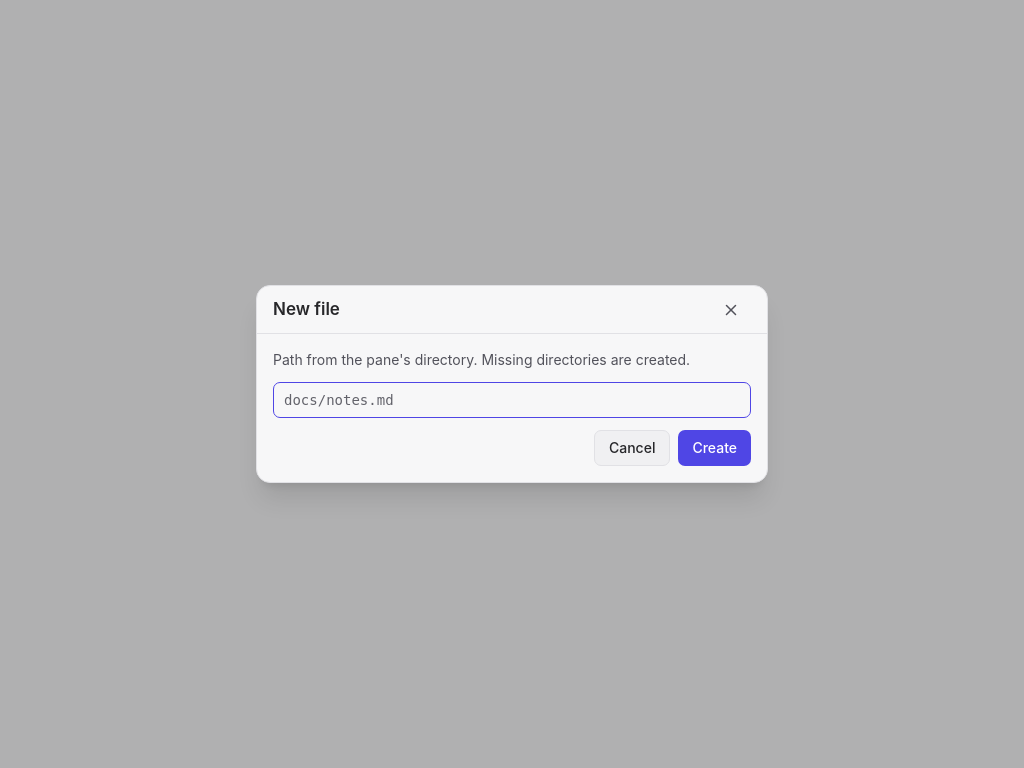
Scenario: NewFileDialog › is caught before sending
Click the button "Create".
click(715, 448)  # box left=678, top=430, right=751, bottom=466
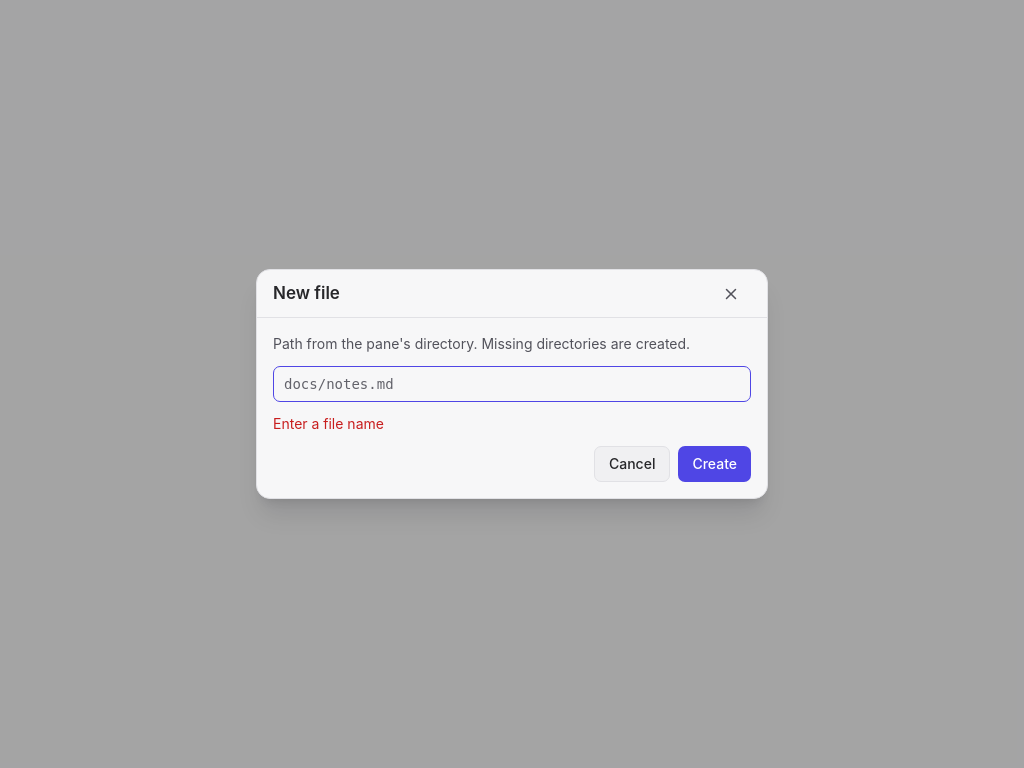
Result: the message reads "Enter a file name" at left=273, top=415, right=384, bottom=432
Type "x" into the field.
click(512, 384); type("x")  # box left=273, top=366, right=751, bottom=402
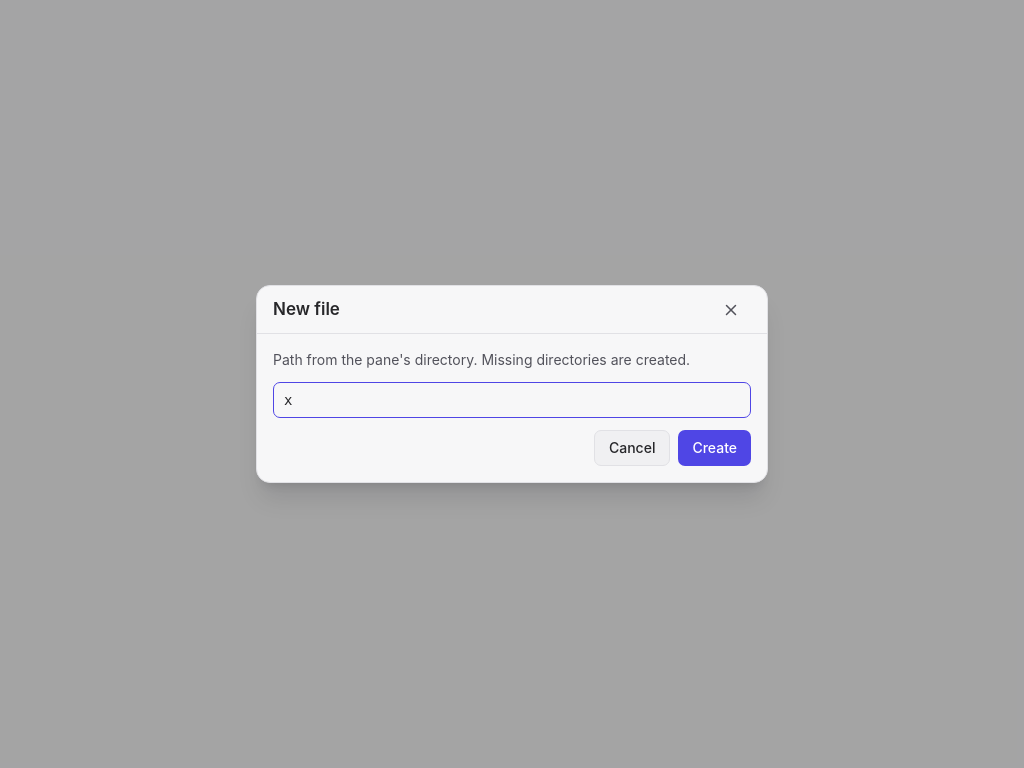
Result: the message "Enter a file name" is gone
